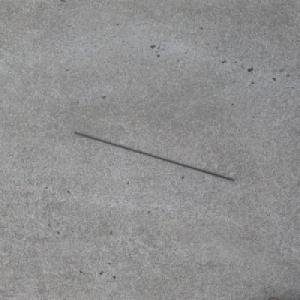LuggagePart: (71, 131, 236, 182)
